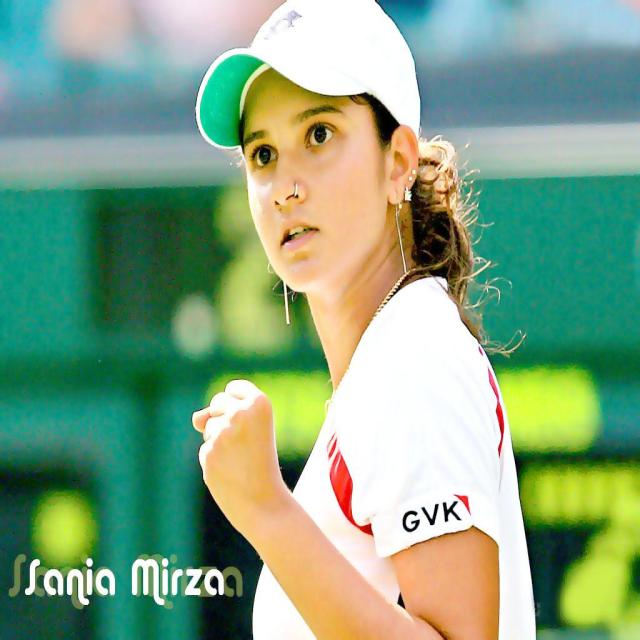Face: (216, 54, 416, 310)
